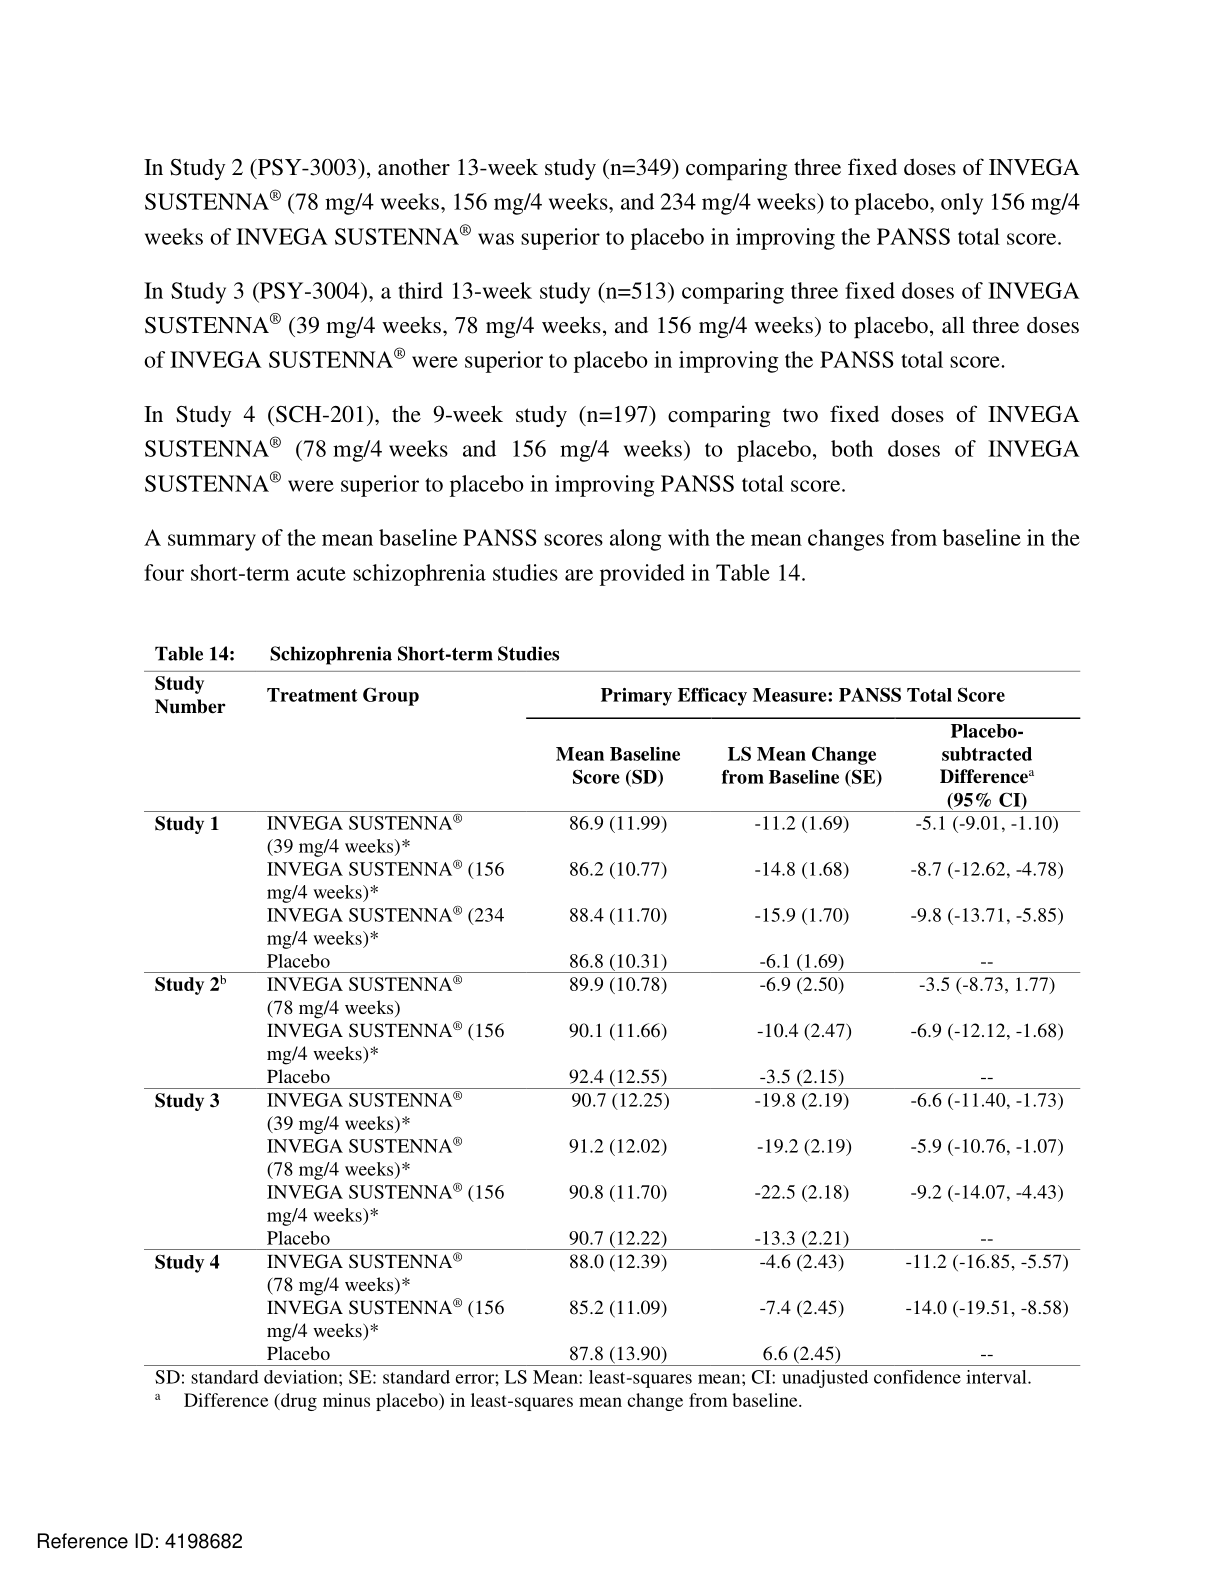partial_lined_merged_cells: (141, 669, 1081, 1371)
